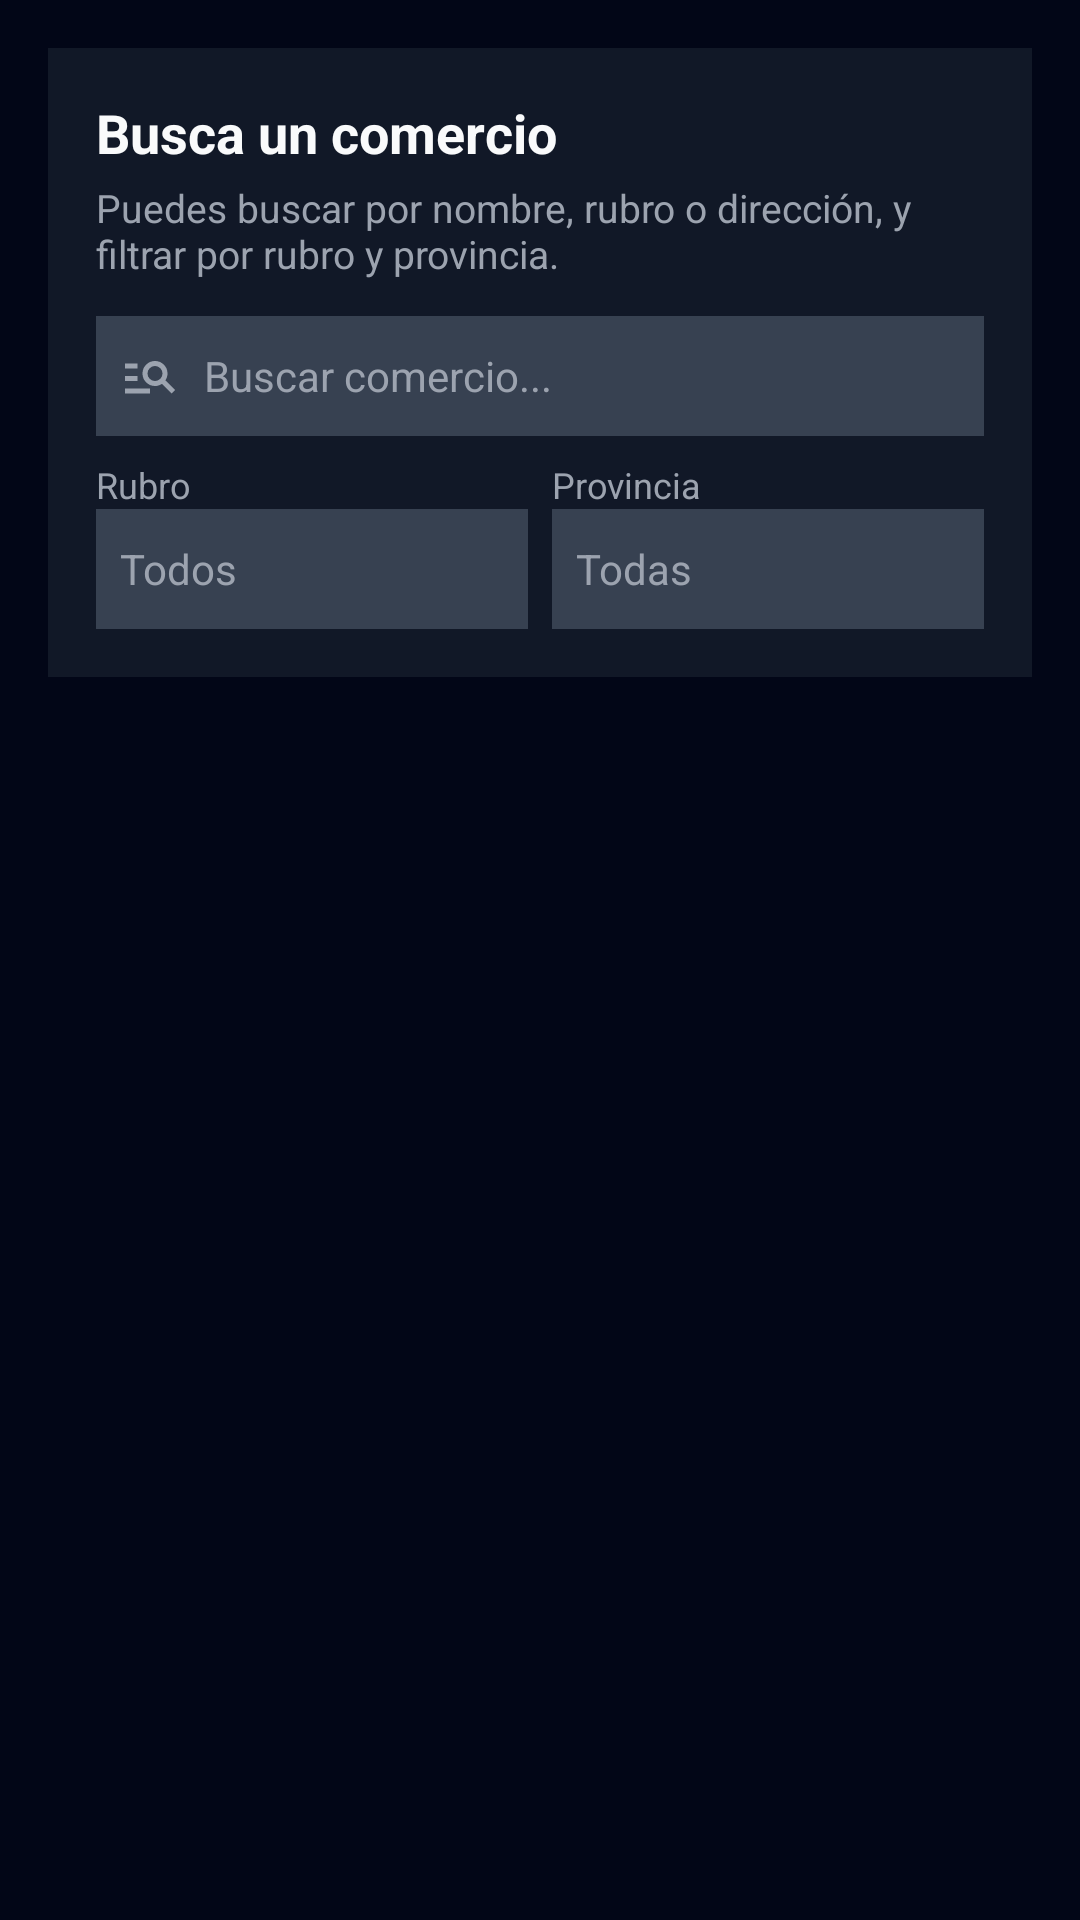

Named icons in this screenshot (1080px x 1920px) and their centers, [x,y]:
search: [150,377]
